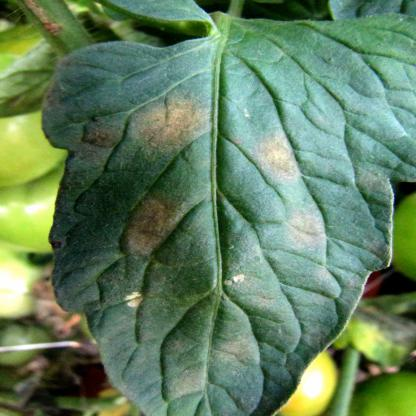tomato mold leaf: (41, 8, 410, 416)
